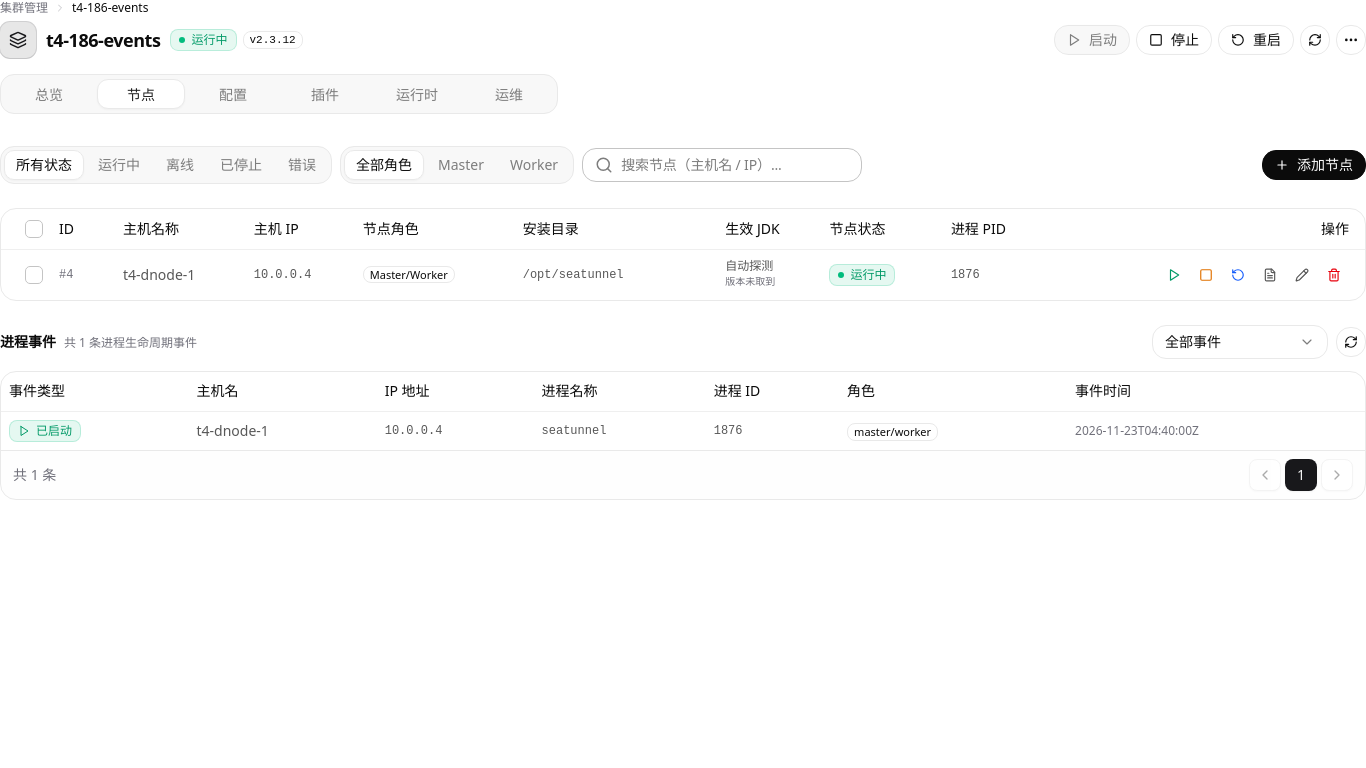
ClusterDetail restart entry integration (node + header) › header cluster restart confirm: stay on page, wiring passes baseline without hand injection
This screenshot has width=1366, height=768.
Expected: the text "1876" in the row of "/opt/seatunnel" is shown, [951,268,980,282]
Click the button "重启": (1256, 40) [1218,25,1294,55]
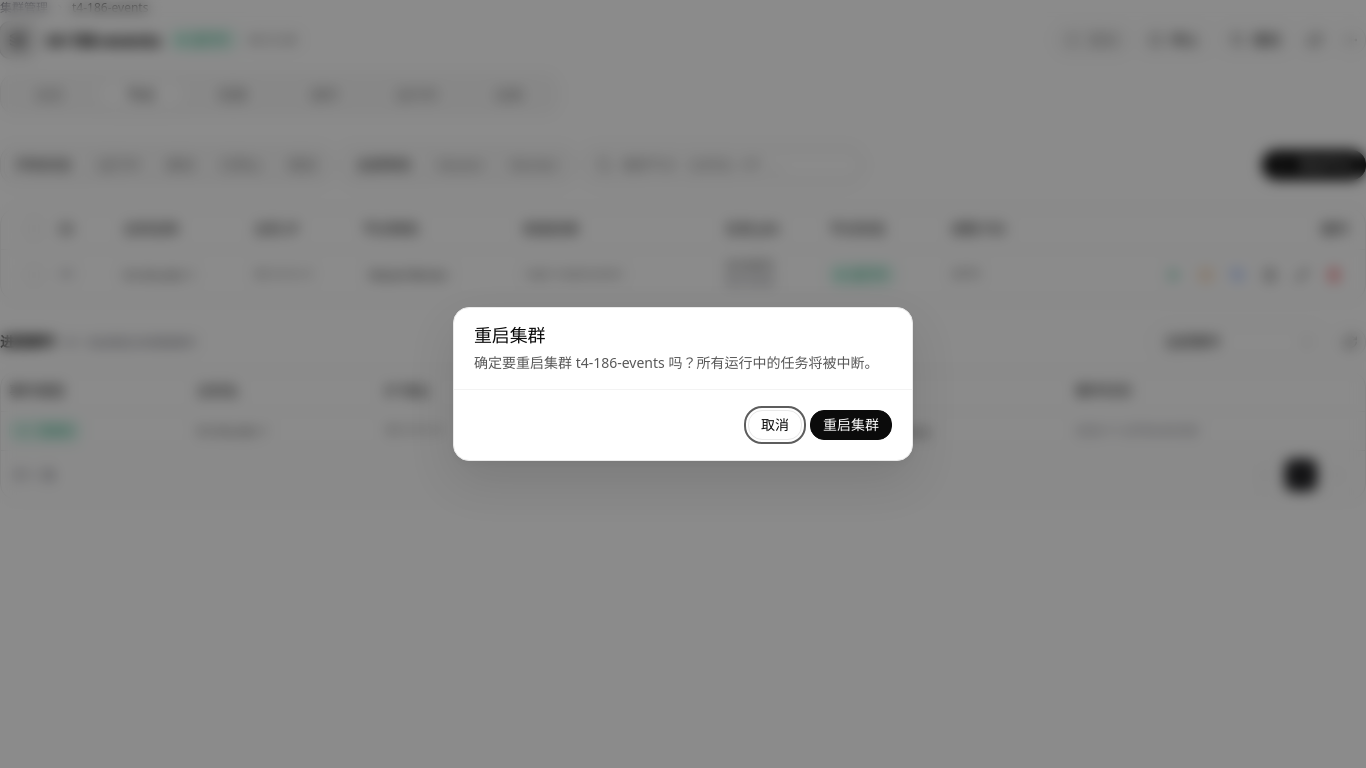
Now the heading "重启集群" is shown, box [474,326,545,346]
Click the button "重启集群": (851, 425) [810,410,892,440]
Wait 10000 ms
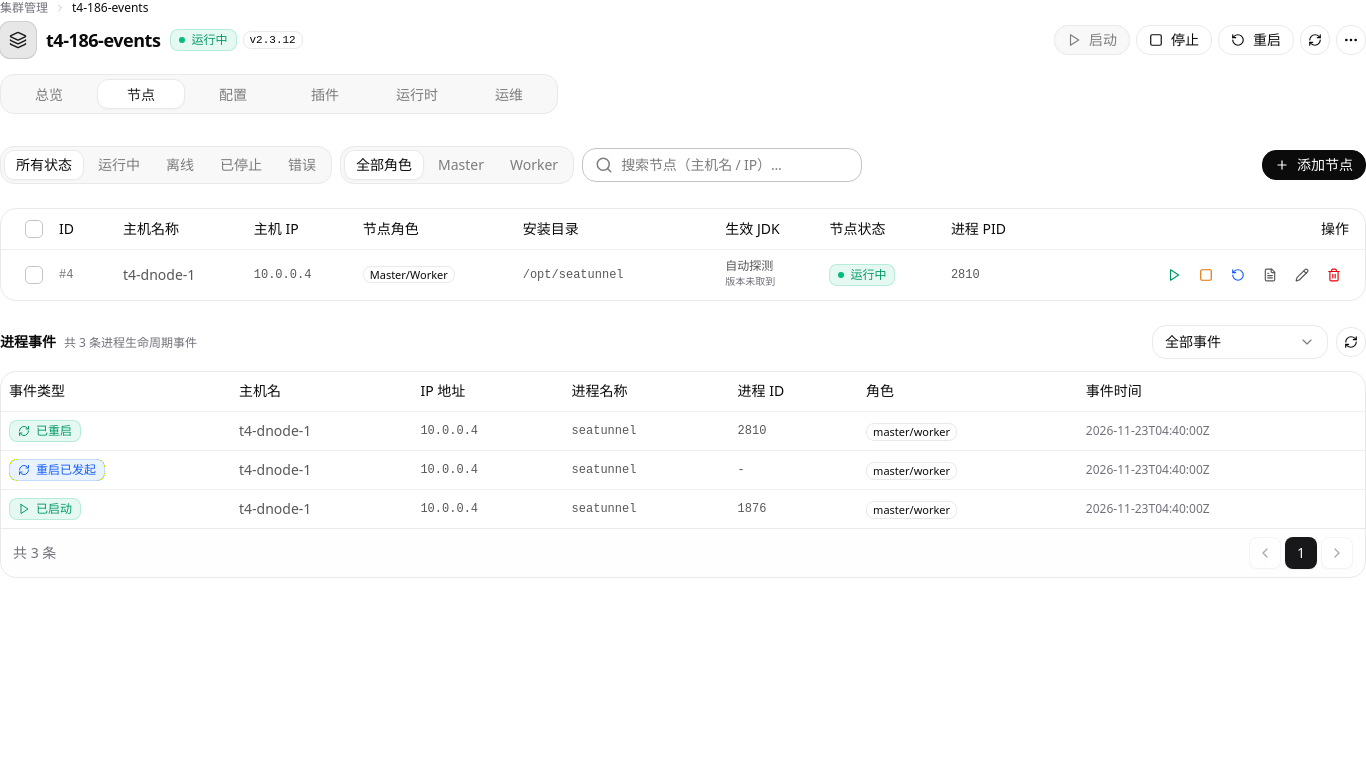
Now the text "2810" in the row of "/opt/seatunnel" is shown, box [951,268,980,282]
Now the text "已重启" is shown, box [36,423,72,439]
Now the text "重启已发起" is shown, box [36,462,96,478]
